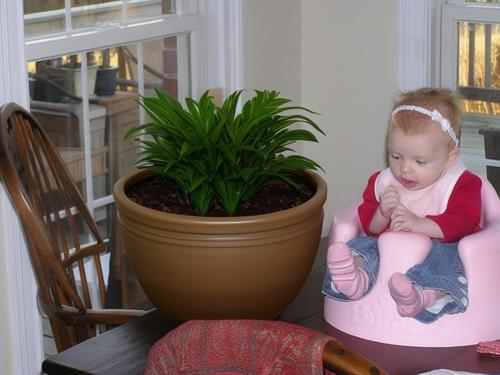chair: (1, 102, 172, 346), (151, 314, 378, 375)
diningtable: (40, 238, 500, 375)
person: (326, 86, 479, 322)
person/foot: (326, 240, 363, 300), (388, 273, 419, 318)
person/hand: (389, 203, 421, 232), (381, 186, 398, 216)
person/head: (387, 87, 464, 190)
pottedplant: (111, 89, 326, 319)
